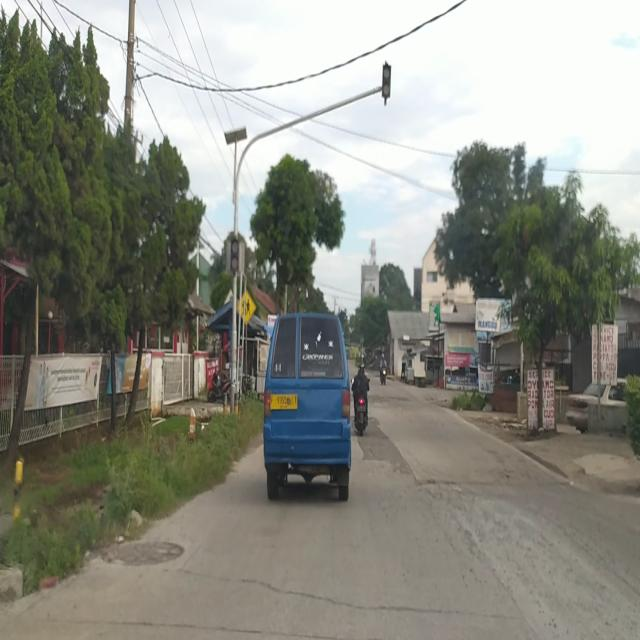Drain Hole: (360, 457, 428, 524)
Sewer Cover: (137, 561, 503, 621), (23, 612, 377, 640), (414, 466, 542, 490)
